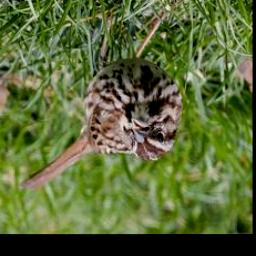Sparrow: (18, 24, 185, 193)
